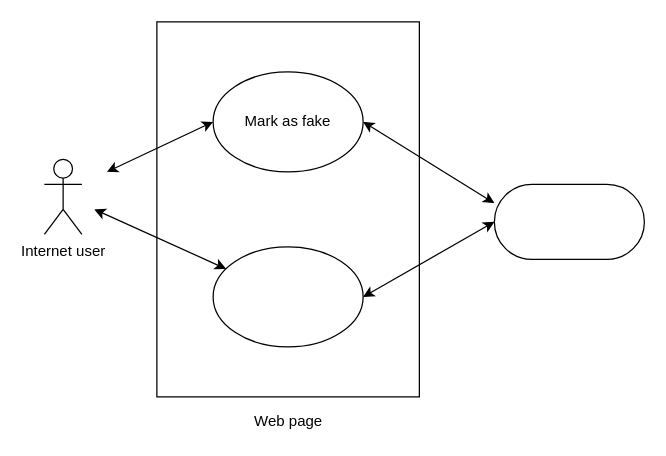
The diagram is 666 pixels wide and 456 high, and some of its shapes have lost their labels. Each missing label, with the centre of its shape:
Is it fake?: (x=287, y=296)
Korona Fakt: (x=568, y=221)
